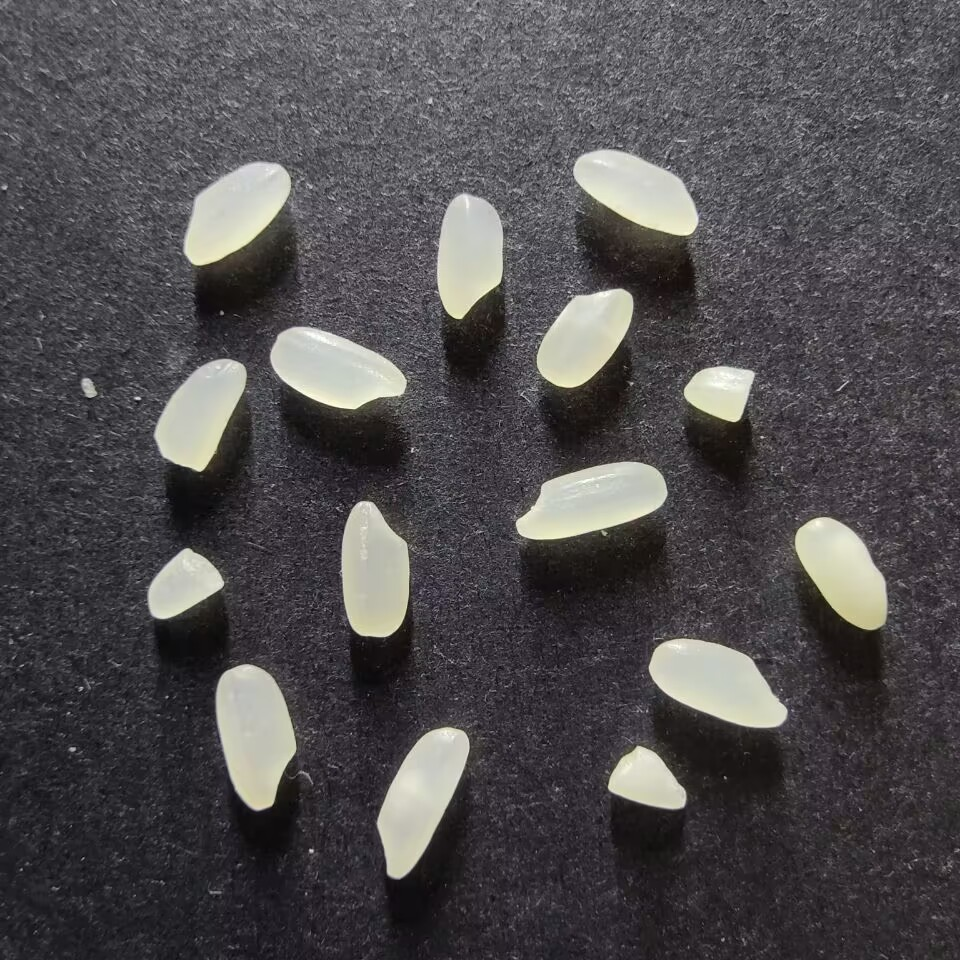broken: (145, 548, 224, 619), (606, 745, 688, 810), (681, 366, 755, 423)
rice: (374, 726, 470, 880), (647, 638, 788, 729), (515, 460, 667, 540), (214, 664, 296, 812), (268, 326, 405, 410), (182, 161, 291, 265), (793, 516, 888, 631), (572, 150, 699, 235), (153, 358, 247, 471), (535, 287, 634, 388), (339, 501, 410, 638), (435, 194, 504, 319)
